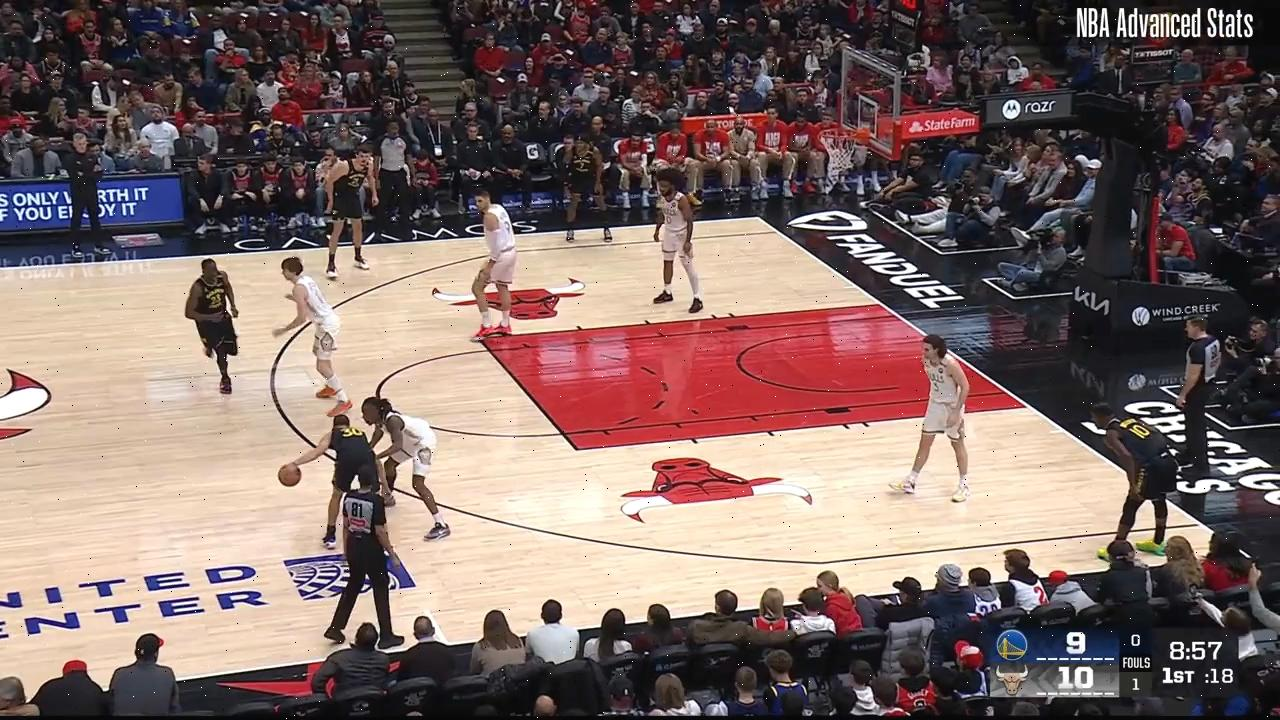basketball: (275, 463, 306, 489)
